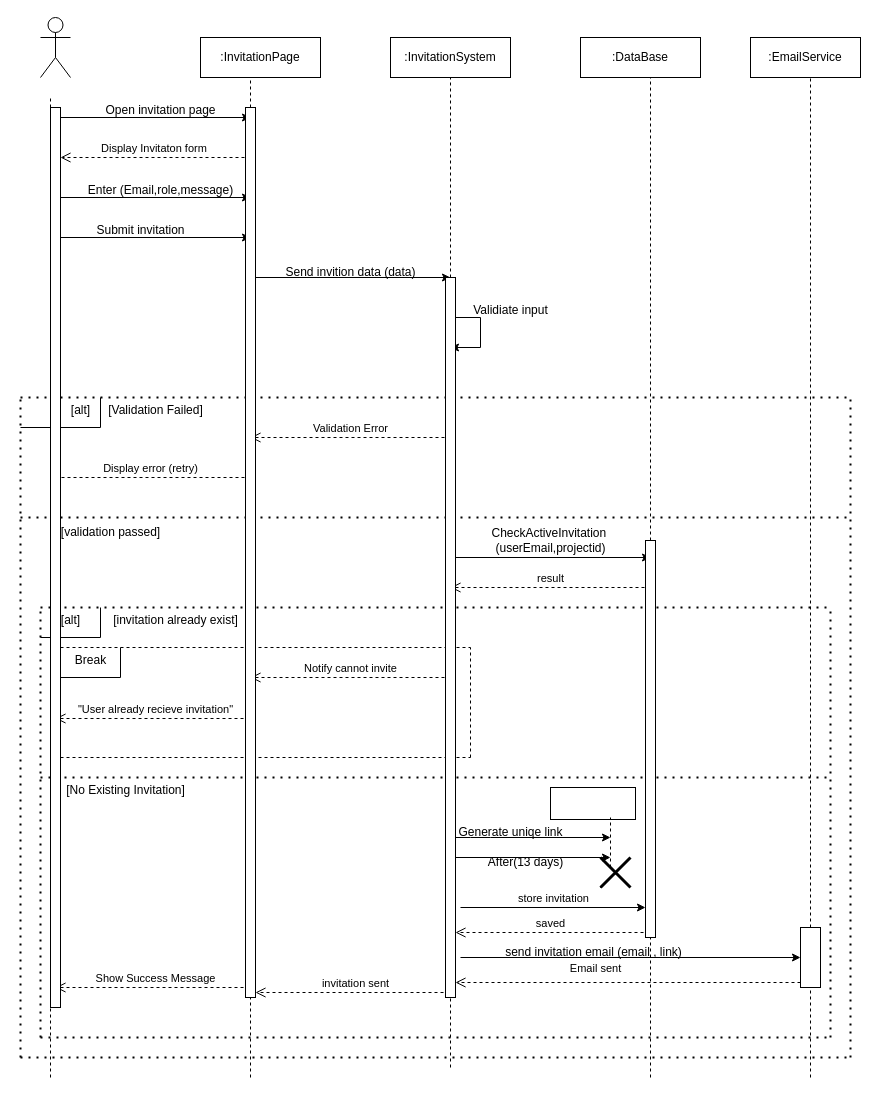
Some shapes in this 878 by 1096 pixel diagram are drawn without their labels. The centre of each missing label's shape, as x and y in pixels:
::uniqueLink: point 593,803
Project Owner: point 55,47
